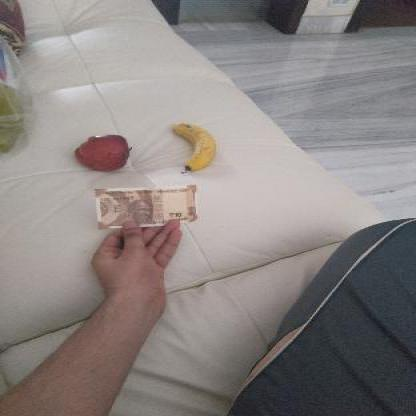New10Front: (91, 187, 197, 227)
